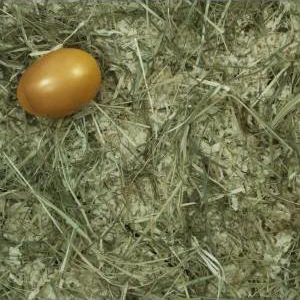egg: (17, 48, 103, 119)
